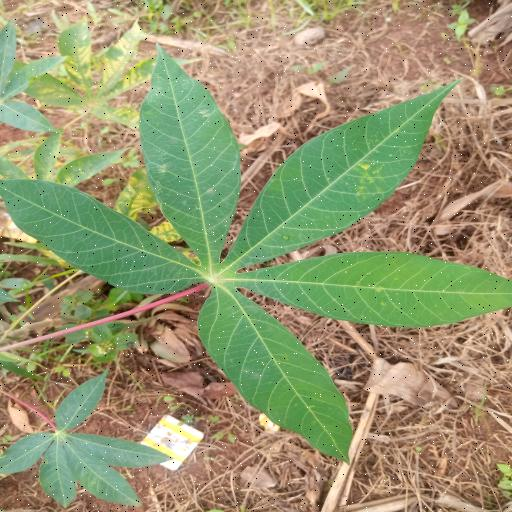Cassava_Healthy: (5, 42, 512, 470)
